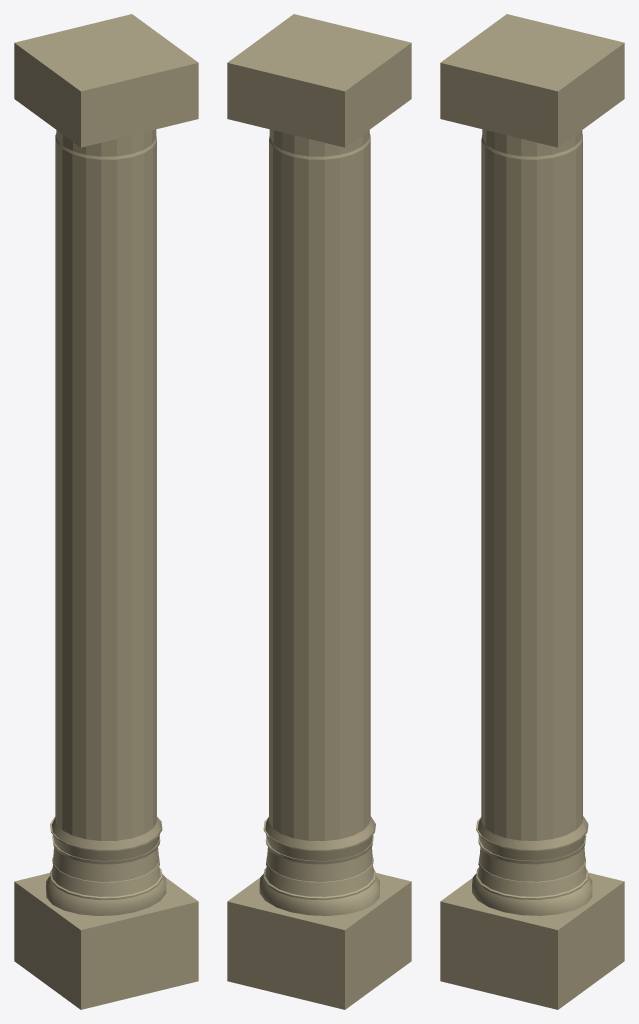
File: PillarIn.fbx
3 views of the same model, side by side, from view 1: azimuth 30°, elevation 25°; view 2: azimuth 150°, elevation 25°; view 3: azimuth 330°, elevation 25° (orthographic).
Parts seen in each view (by area): view 1: PillarIn, pCube3, pCube1; view 2: PillarIn, pCube3, pCube1; view 3: PillarIn, pCube3, pCube1.
Part boxes in pixels (left/top/right/bottom): PillarIn: left=46, top=129, right=166, bottom=915; pCube3: left=14, top=14, right=198, bottom=147; pCube1: left=14, top=873, right=198, bottom=1009; PillarIn: left=259, top=129, right=379, bottom=915; pCube3: left=227, top=14, right=411, bottom=147; pCube1: left=227, top=873, right=411, bottom=1009; PillarIn: left=472, top=129, right=592, bottom=915; pCube3: left=440, top=14, right=624, bottom=147; pCube1: left=440, top=872, right=624, bottom=1009.
Size of the model in its own units: 2.48 by 18.51 by 2.43.
